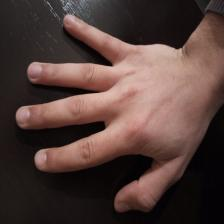five: (17, 10, 178, 217)
